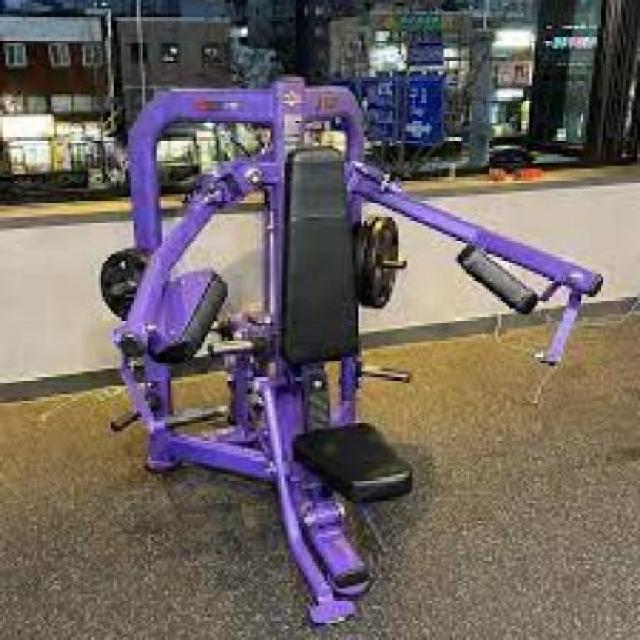lateral raises machine: (140, 77, 603, 621)
